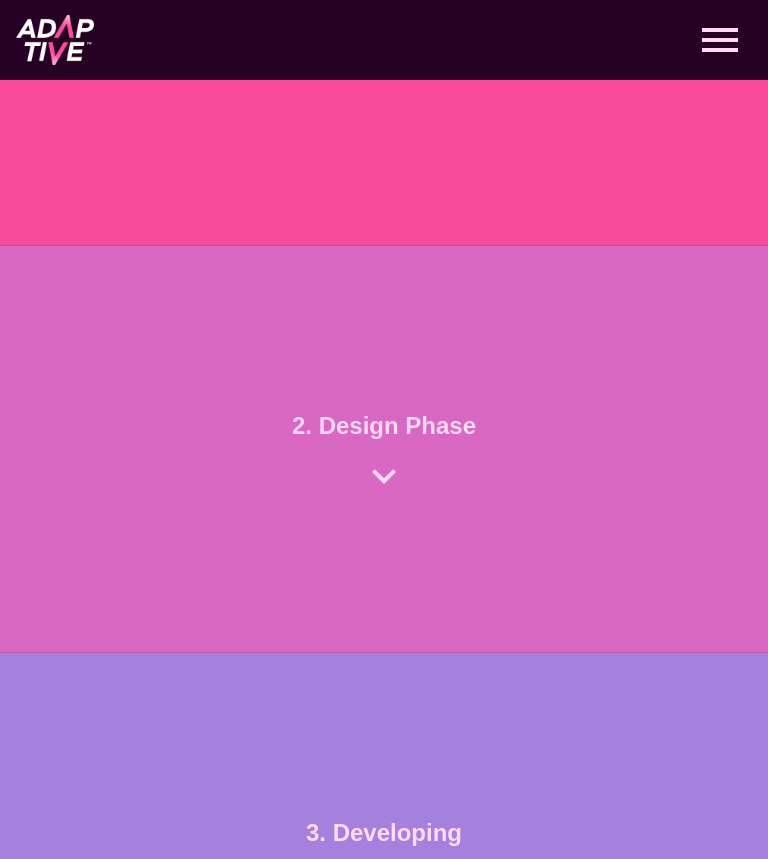
Vistor can see our process › For ipad-2 view, successfully › is expected to show our process section › is expected to show design phase
(page scrolled)
Expected: the heading with test id "heading" reads "2. Design Phase", [292,412,476,439]
Step 1. Click the button with test id "step-2" → click(384, 450), box [276,400,492,500]
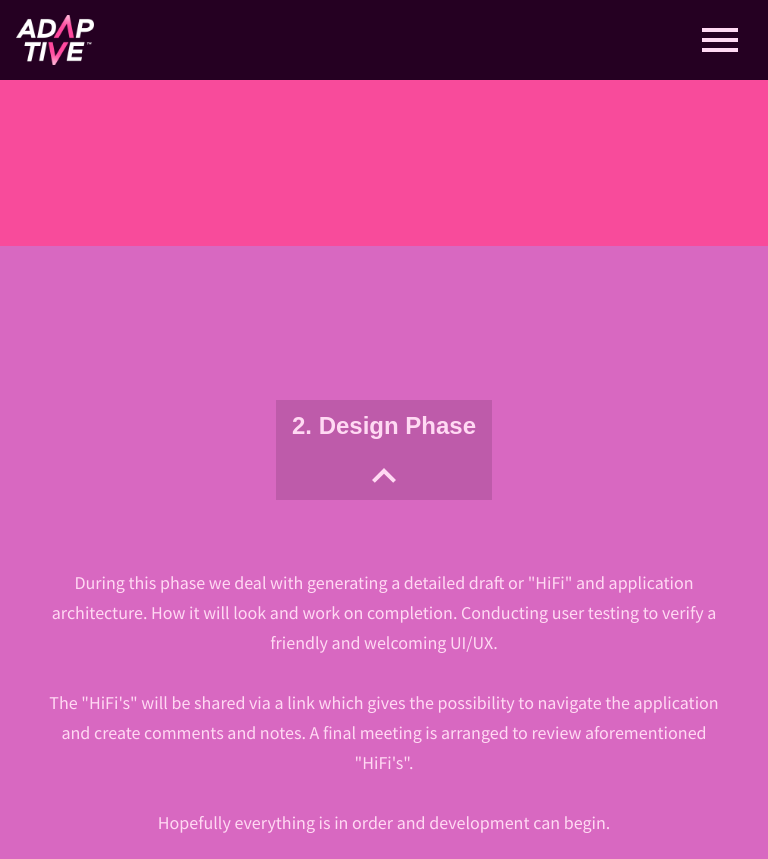
Expected: the text with test id "body-1" shows "During this phase we deal with generating a detailed draft or", [52,571,717,654]
Expected: the text with test id "body-2" shows "The", [42,658,726,778]
Expected: the text with test id "body-3" reads "Hopefully everything is in order and development can begin.", [158,811,611,834]
